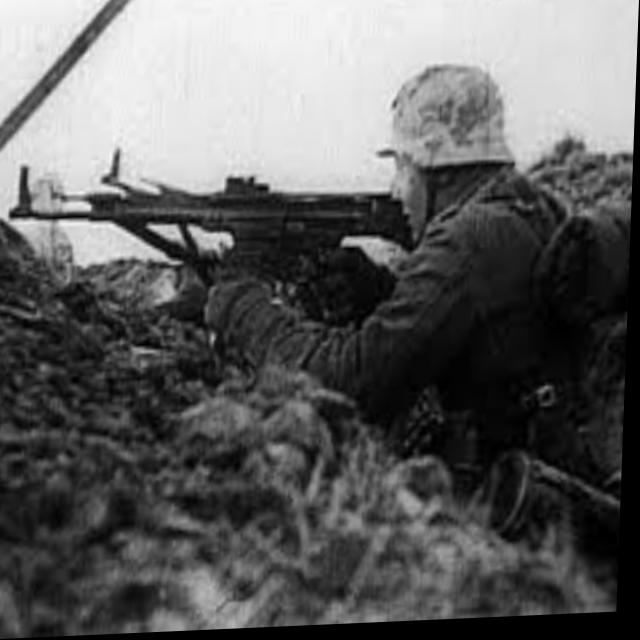other: (350, 58, 634, 509)
